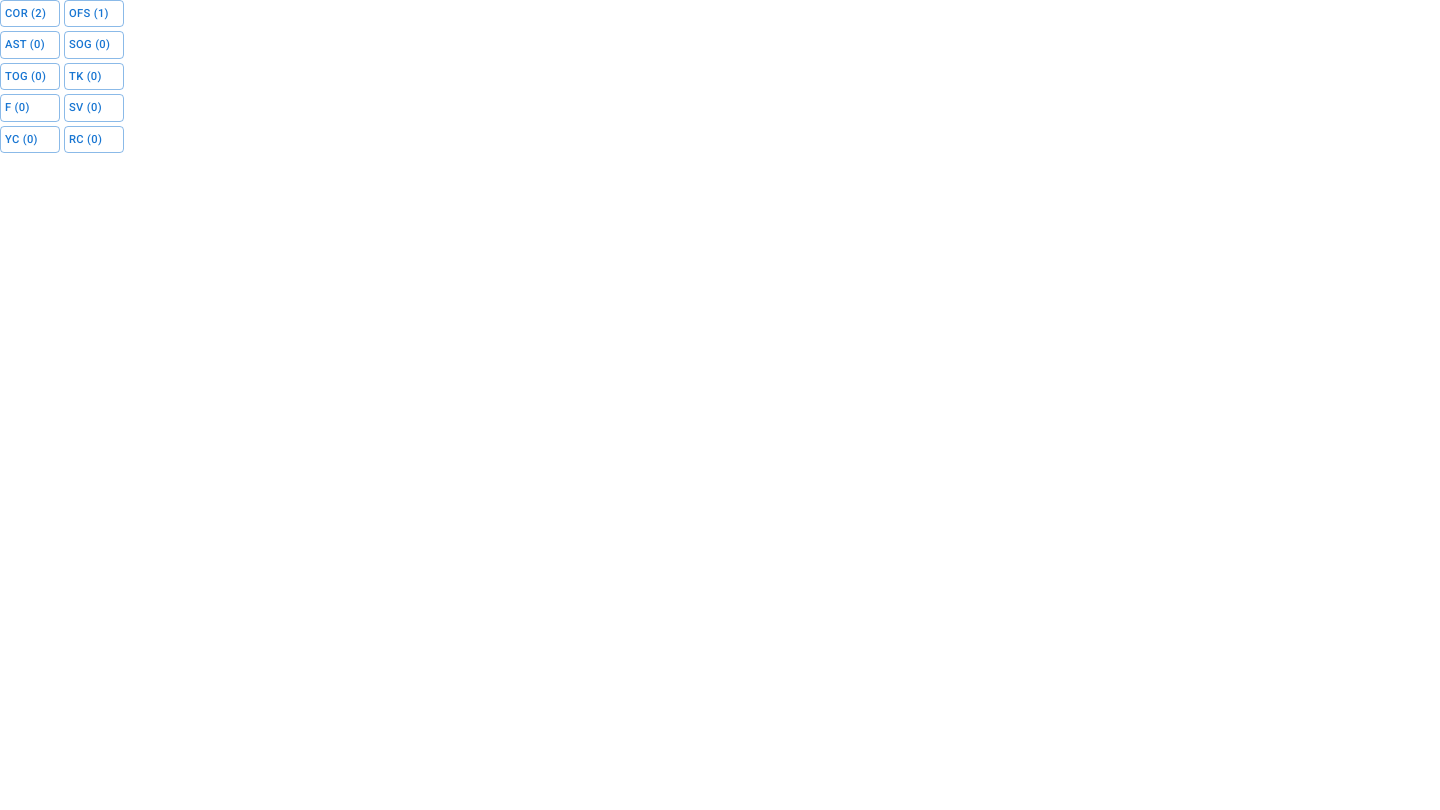
Test case: TeamStatGrid › long-pressing a stat button with no matching entries shows "No activity yet"
This screenshot has width=1440, height=810.
Press the mouse on the button "AST (0)": (30, 45) [0,31,60,59]
Wait 500 ms
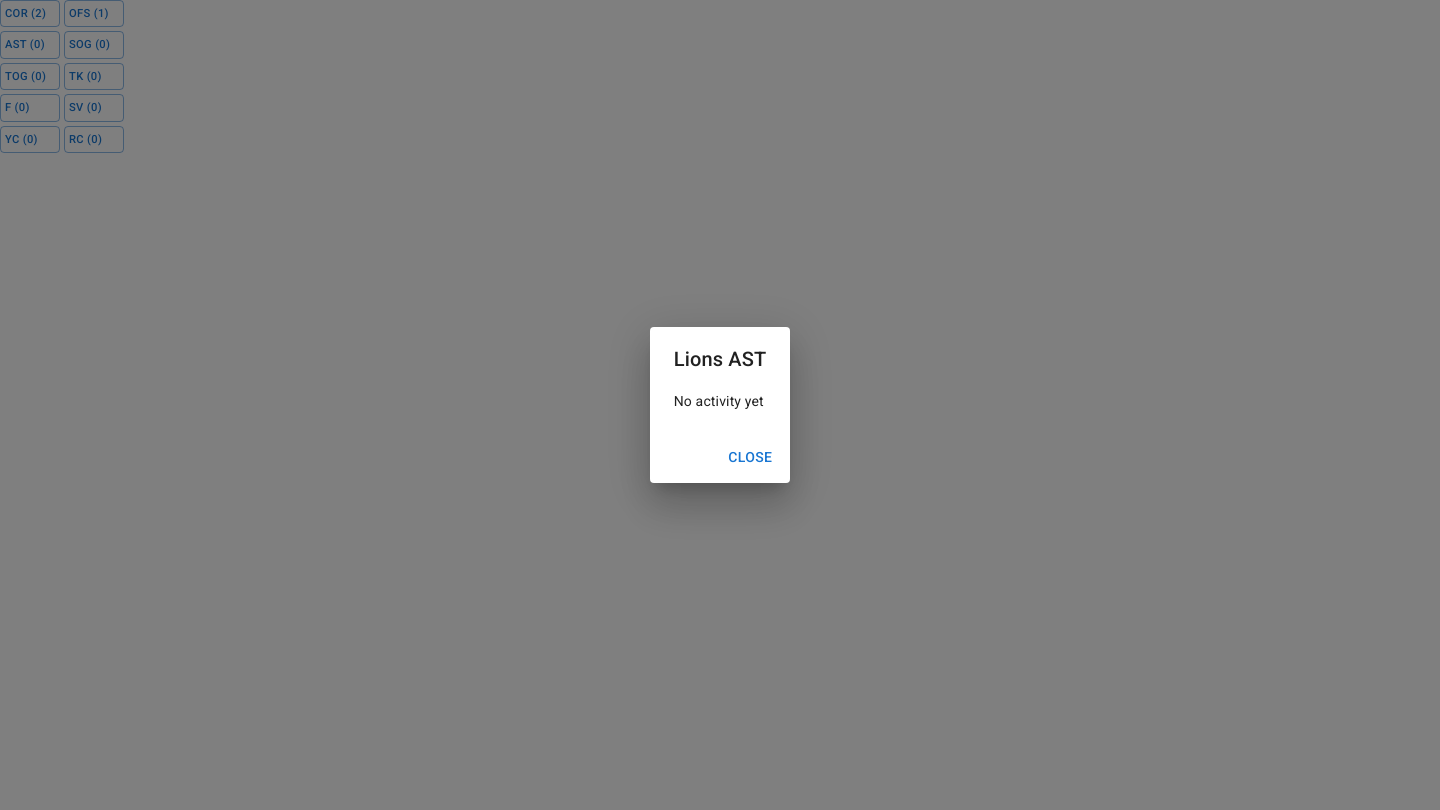
Expected: the text "No activity yet" is shown, [674,391,766,411]
